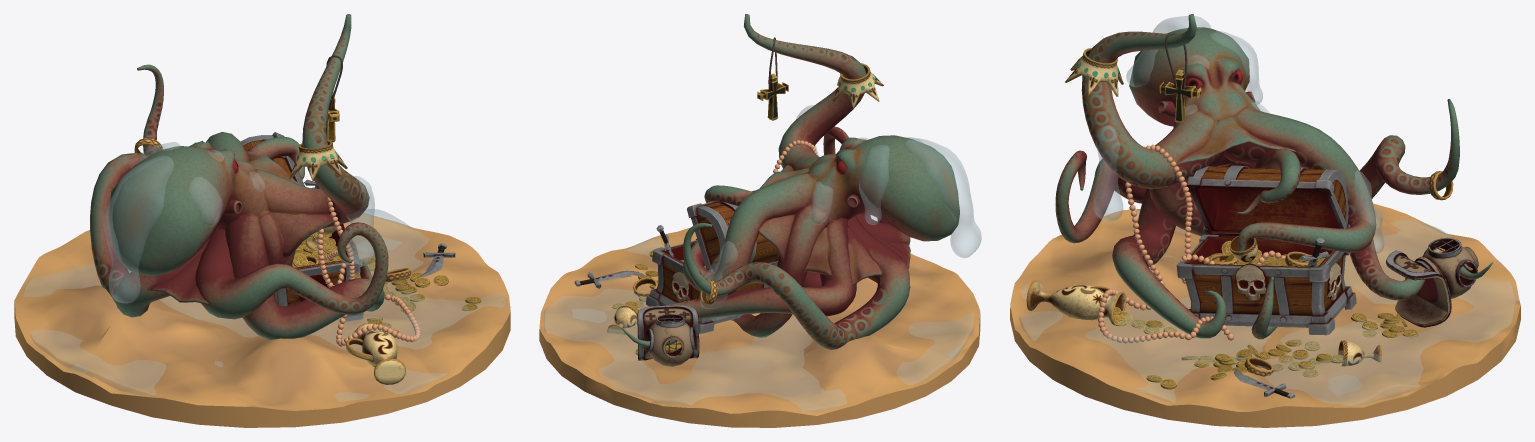
3 views of the same model, side by side, from view 1: azimuth 30°, elevation 25°; view 2: azimuth 150°, elevation 25°; view 3: azimuth 270°, elevation 25° (orthographic). The views are drawn at different scales.
Parts seen in each view (by area): view 1: floor_low_0, octopus_low_155, voda_172, kapka1_low_173, koralky-low.001_20, vaza_low.001_5, koruna_low.001_2, zakladna_low_170; view 2: floor_low_0, octopus_low_155, voda_172, kapka1_low_173, helma.oblicej_low_1, viko_low_165, koruna_low.001_2, zakladna_low_170, kriz_low.001_7, viko.kraje_low_168, pohar_low.002_10, lebka2_low_158 (+1 smaller); view 3: floor_low_0, octopus_low_155, voda_172, kapka1_low_173, viko_low_165, helma.oblicej_low_1, zakladna_low_170, koralky-low.001_20, vaza_low.001_5, viko.obruc_low_167, obruc.spodni_low_164, koruna_low.001_2 (+11 smaller).
Part boxes in pixels (x1,y1,x2,y2): floor_low_0: [14, 213, 510, 427]; octopus_low_155: [90, 14, 388, 340]; voda_172: [23, 209, 504, 401]; kapka1_low_173: [103, 142, 374, 303]; koralky-low.001_20: [317, 196, 420, 346]; vaza_low.001_5: [354, 323, 405, 384]; koruna_low.001_2: [289, 140, 347, 181]; zakladna_low_170: [273, 230, 348, 305]; floor_low_0: [539, 227, 980, 427]; octopus_low_155: [622, 14, 959, 349]; voda_172: [544, 238, 973, 412]; kapka1_low_173: [700, 105, 981, 308]; helma.oblicej_low_1: [637, 305, 699, 366]; viko_low_165: [697, 202, 778, 268]; koruna_low.001_2: [832, 63, 883, 109]; zakladna_low_170: [661, 241, 763, 302]; kriz_low.001_7: [757, 73, 788, 120]; viko.kraje_low_168: [696, 205, 727, 272]; pohar_low.002_10: [607, 305, 637, 334]; lebka2_low_158: [672, 271, 691, 301]; floor_low_0: [1010, 203, 1520, 427]; octopus_low_155: [1055, 14, 1492, 339]; voda_172: [1019, 210, 1515, 405]; kapka1_low_173: [1094, 16, 1383, 253]; viko_low_165: [1194, 167, 1345, 231]; helma.oblicej_low_1: [1386, 237, 1478, 327]; zakladna_low_170: [1185, 236, 1342, 315]; koralky-low.001_20: [1097, 144, 1285, 343]; vaza_low.001_5: [1026, 280, 1126, 322]; viko.obruc_low_167: [1190, 179, 1347, 235]; obruc.spodni_low_164: [1193, 287, 1347, 327]; koruna_low.001_2: [1065, 48, 1123, 96].
Bounding box in the file's own units: 14.32 × 10.24 × 14.33.
Materials: 6 (4 with a texture image).
